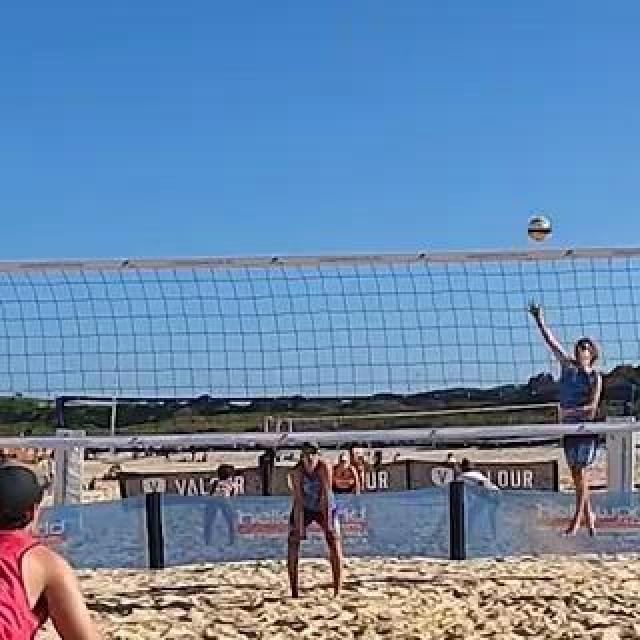volleyball: (527, 215, 551, 241)
